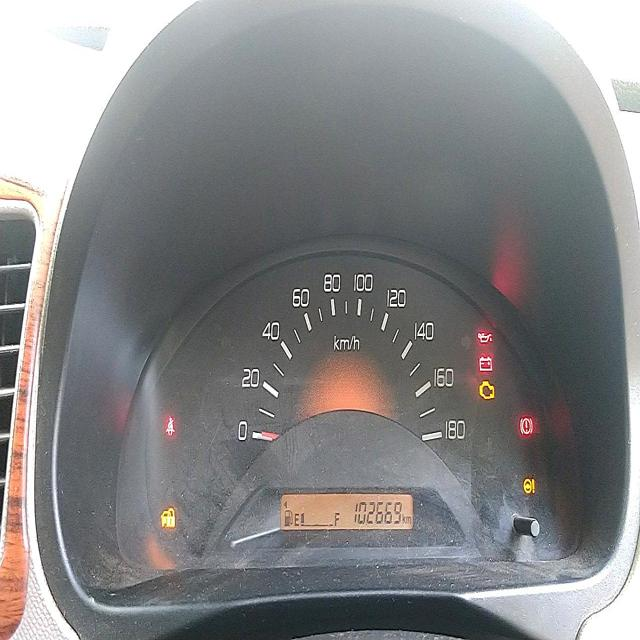odometer: (352, 498, 404, 528)
